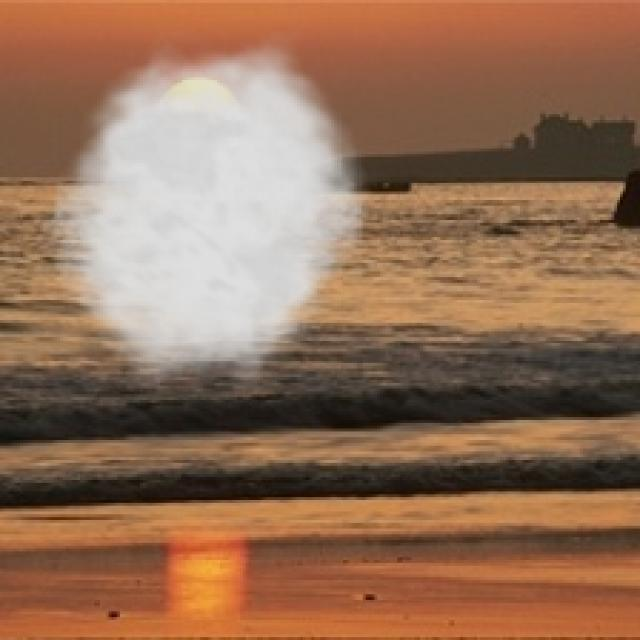Smoke: (34, 31, 377, 388)
